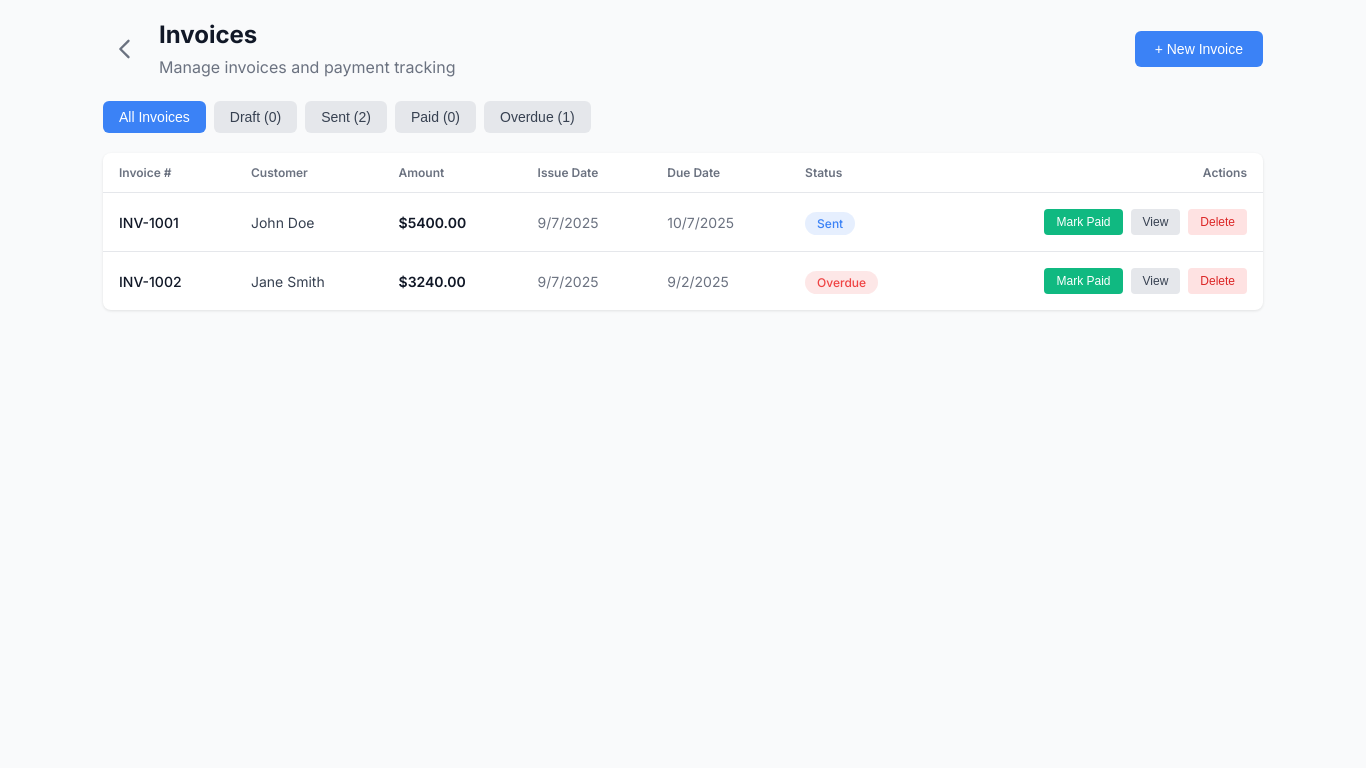
Scenario: Invoices › filters invoices when filter buttons clicked
The width and height of the screenshot is (1366, 768).
Click overdue filter
Click the button "overdue (1)".
click(537, 117)  # box [484,101,591,133]
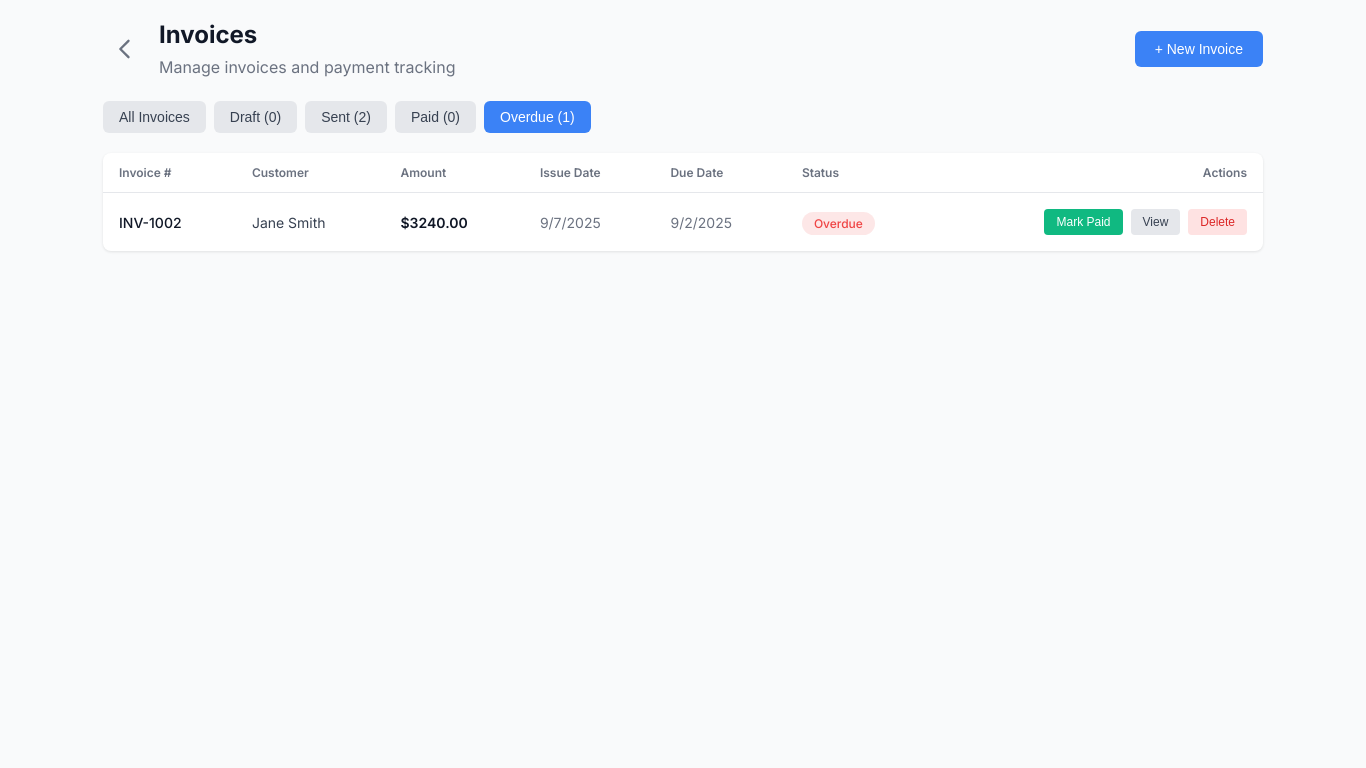
Check: the text "INV-1002" is shown, box [103,192,236,251]
Check: the text "INV-1001" is gone
